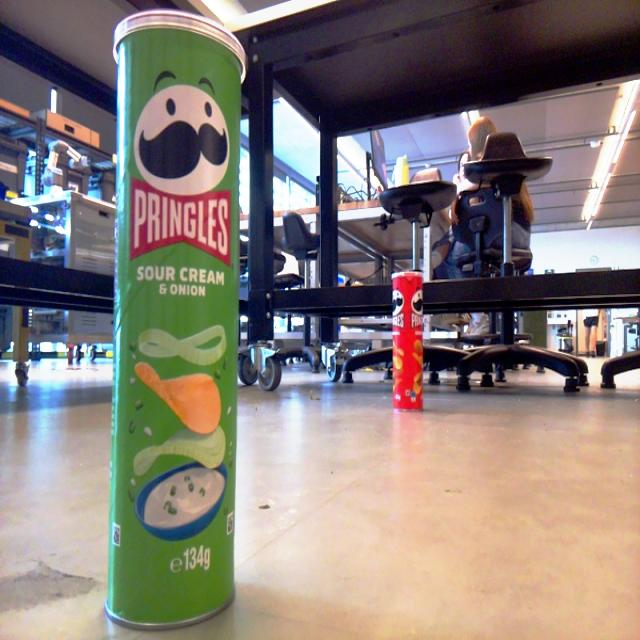greenpringles: (98, 0, 263, 640)
redpringles: (379, 267, 432, 428)
